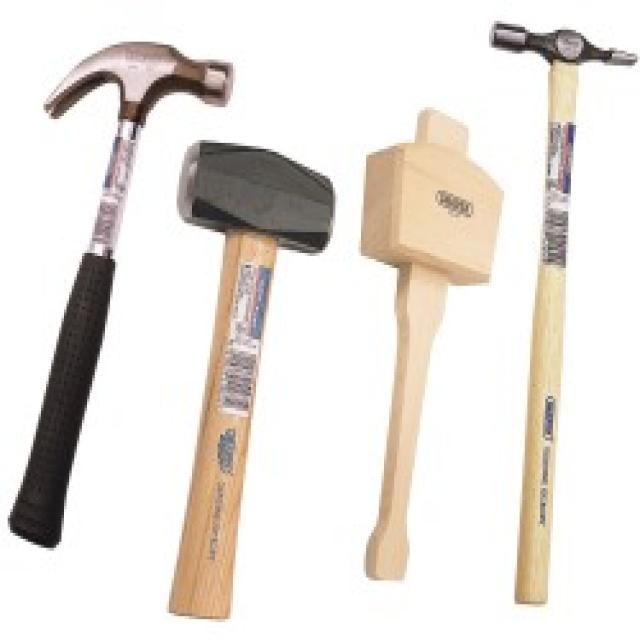hammer: (25, 32, 242, 542), (484, 0, 640, 610)
